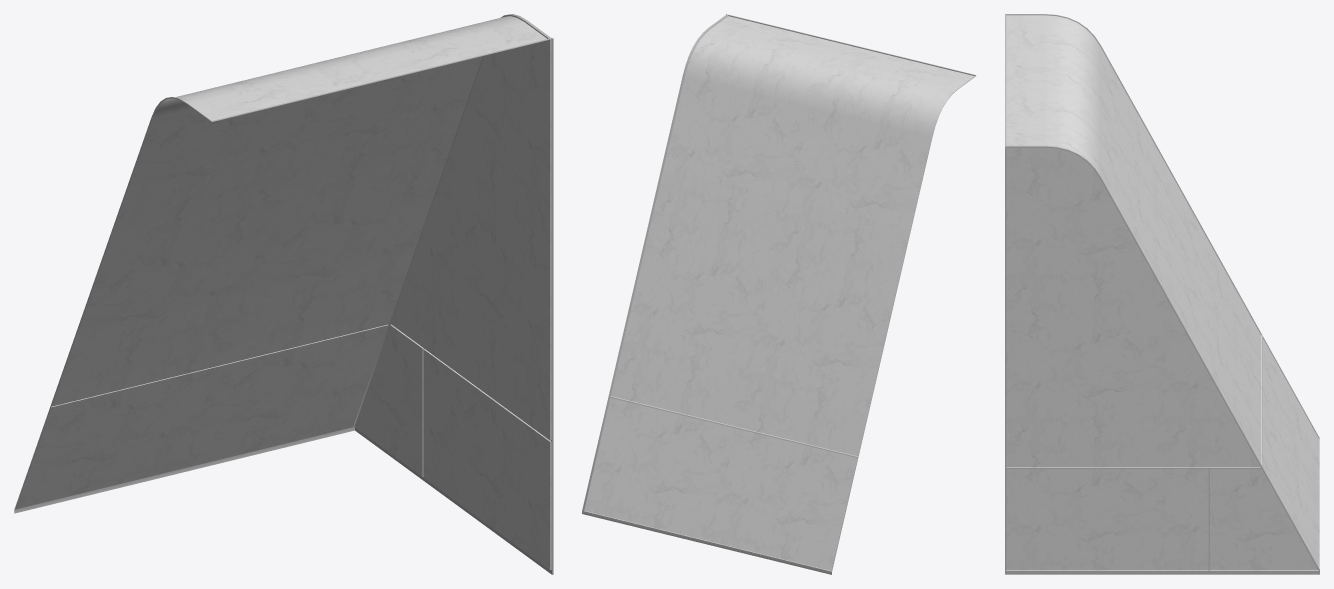
3 views of the same model, side by side, from view 1: azimuth 30°, elevation 25°; view 2: azimuth 150°, elevation 25°; view 3: azimuth 270°, elevation 25° (orthographic). The views are drawn at different scales.
Visible parts, largest first — view 1: M_W_005_i_8x12; view 2: M_W_005_i_8x12; view 3: M_W_005_i_8x12.
Part boxes in pixels (bbox=[...]): M_W_005_i_8x12: bbox=[14, 14, 553, 574]; M_W_005_i_8x12: bbox=[582, 14, 976, 574]; M_W_005_i_8x12: bbox=[1005, 14, 1319, 574].
Bounding box in the file's own units: 8 × 8 × 12.
